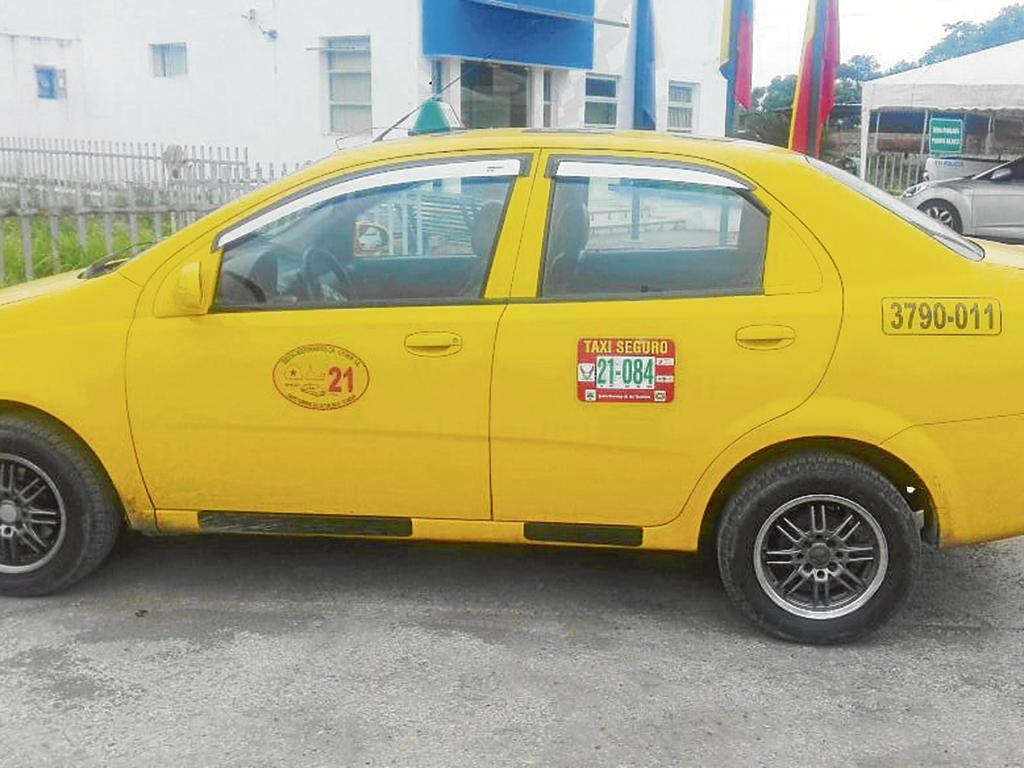taxi: (7, 92, 1024, 659)
